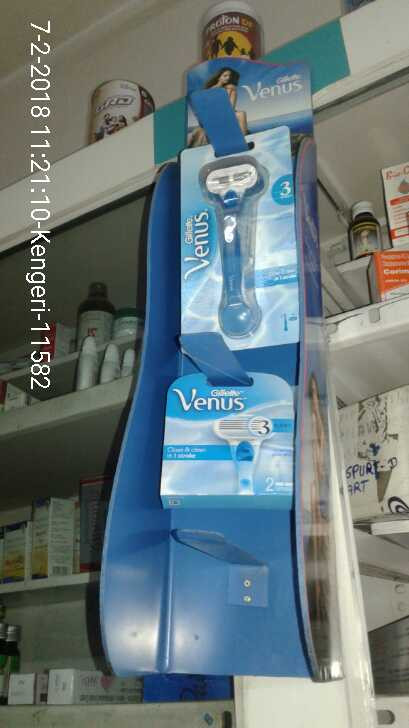venus: (181, 151, 300, 349), (164, 379, 294, 495)
